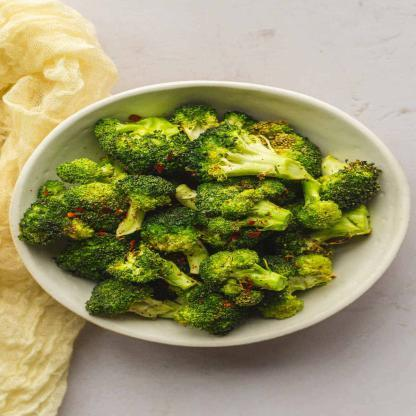broccoli: (20, 101, 382, 335)
